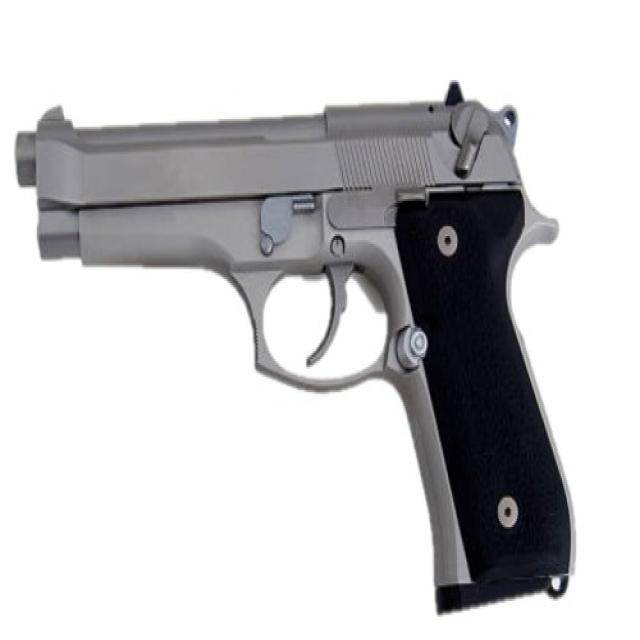pistol: (10, 74, 583, 621)
